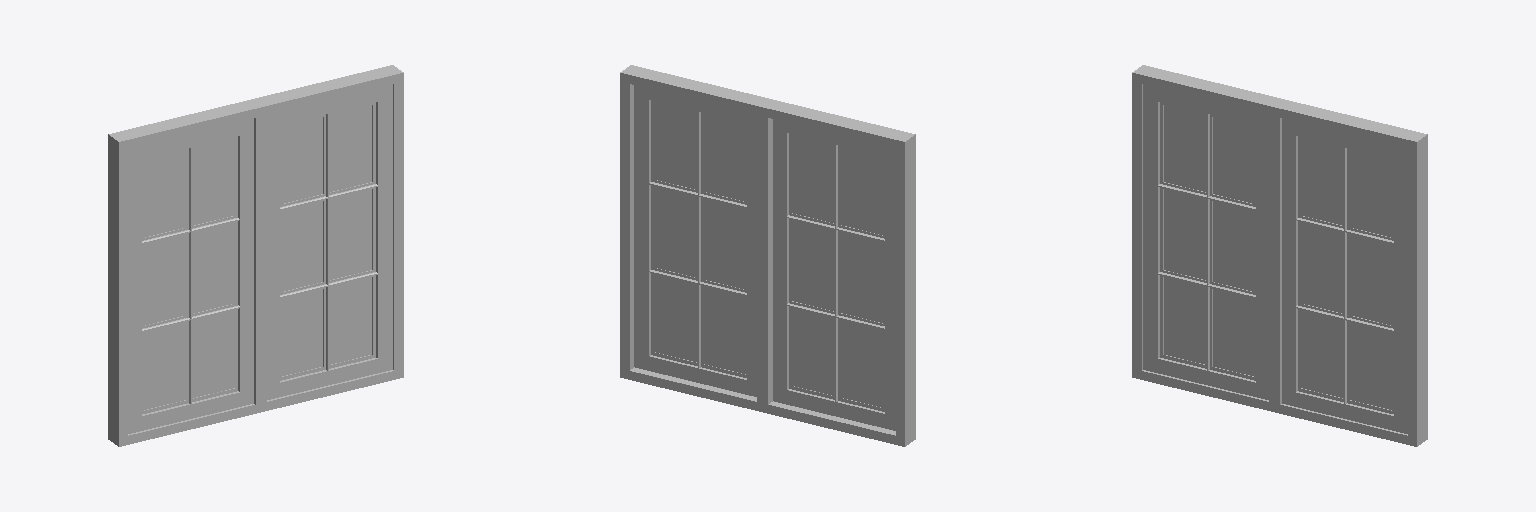
File: win.obj
The picture shows the model from 3 angles: view 1: azimuth 30°, elevation 25°; view 2: azimuth 150°, elevation 25°; view 3: azimuth 330°, elevation 25°; orthographic projection.
Parts seen in each view (by area): view 1: window3; view 2: window3; view 3: window3.
Part boxes in pixels (left/top/right/bottom): window3: left=108, top=65, right=403, bottom=446; window3: left=620, top=65, right=915, bottom=446; window3: left=1132, top=65, right=1427, bottom=446.
Size of the model in its own units: 17.48 by 17.9 by 1.13.